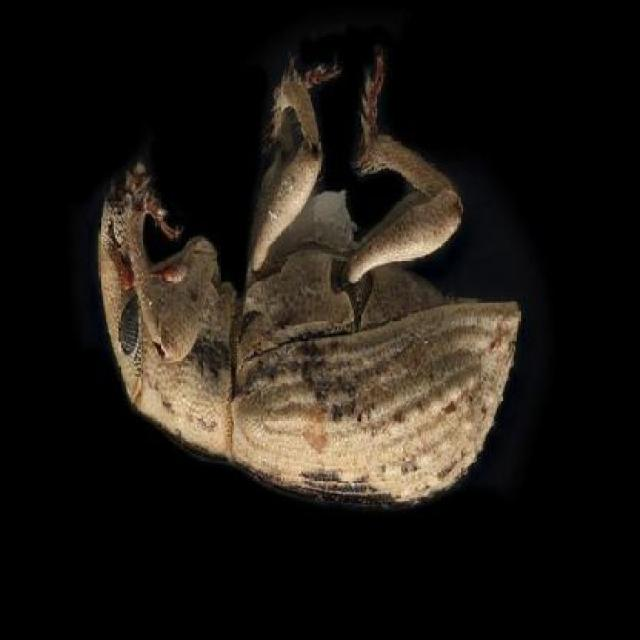rice-bug: (98, 97, 527, 503)
